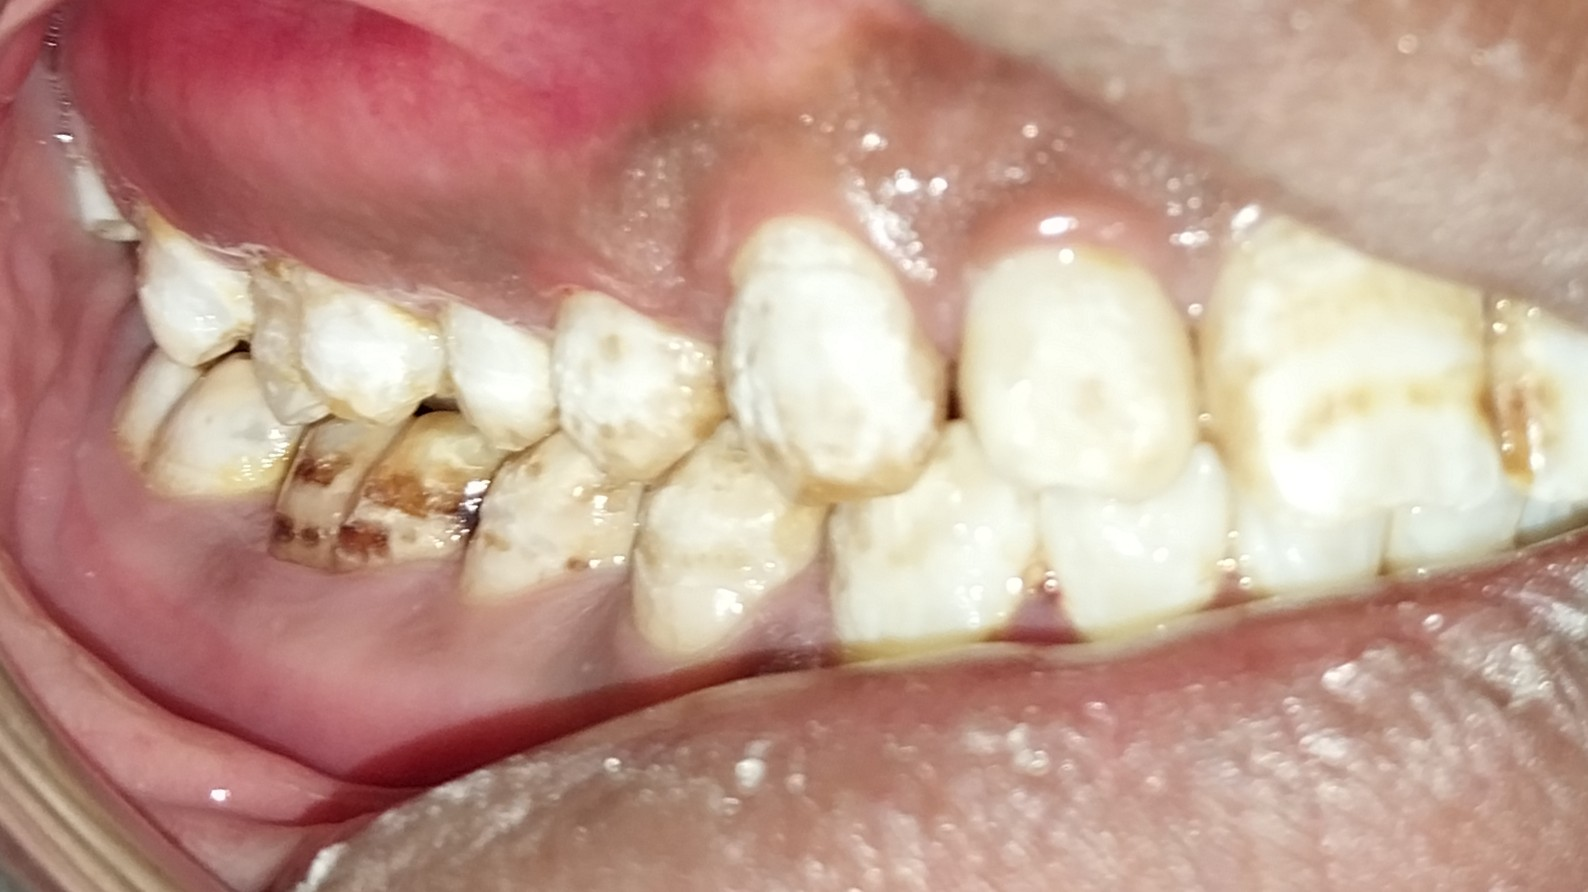D: (261, 408, 497, 574)
